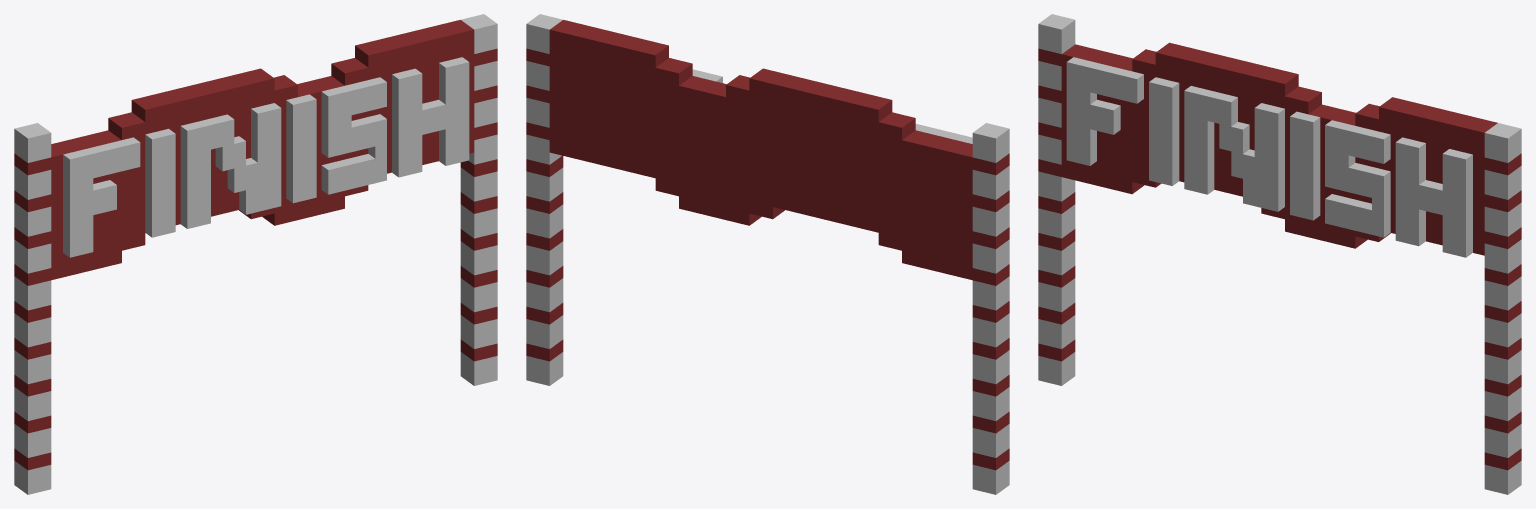
File: FinishLine.fbx
3 views of the same model, side by side, from view 1: azimuth 30°, elevation 25°; view 2: azimuth 150°, elevation 25°; view 3: azimuth 330°, elevation 25° (orthographic).
Visible parts, largest first — view 1: FinishLine; view 2: FinishLine; view 3: FinishLine.
Part boxes in pixels (x1,y1,x2,y2): FinishLine: (14, 14, 497, 494); FinishLine: (526, 14, 1009, 494); FinishLine: (1038, 14, 1521, 494).
Bounding box in the file's own units: 400 × 290 × 30.
